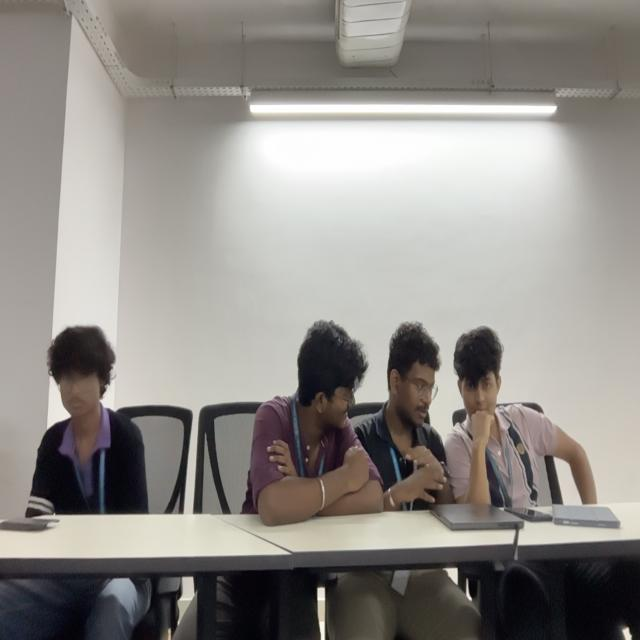Isolated: (24, 323, 149, 512)
socializing: (249, 316, 598, 512)
